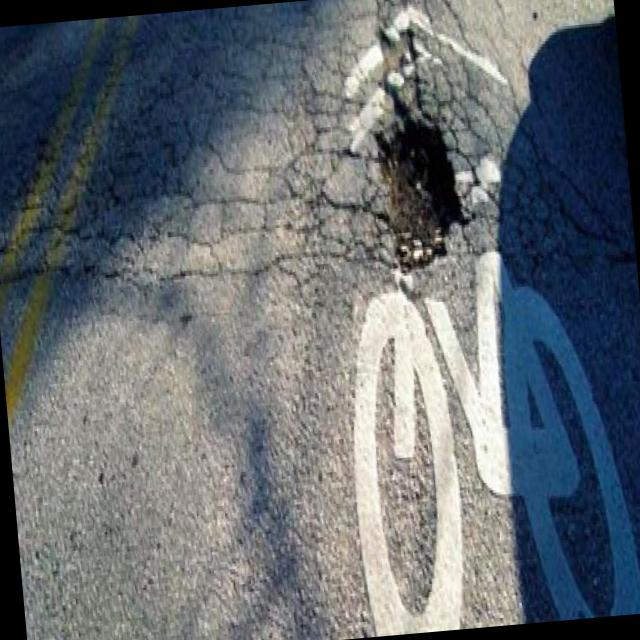Potholes: (324, 0, 474, 322)
